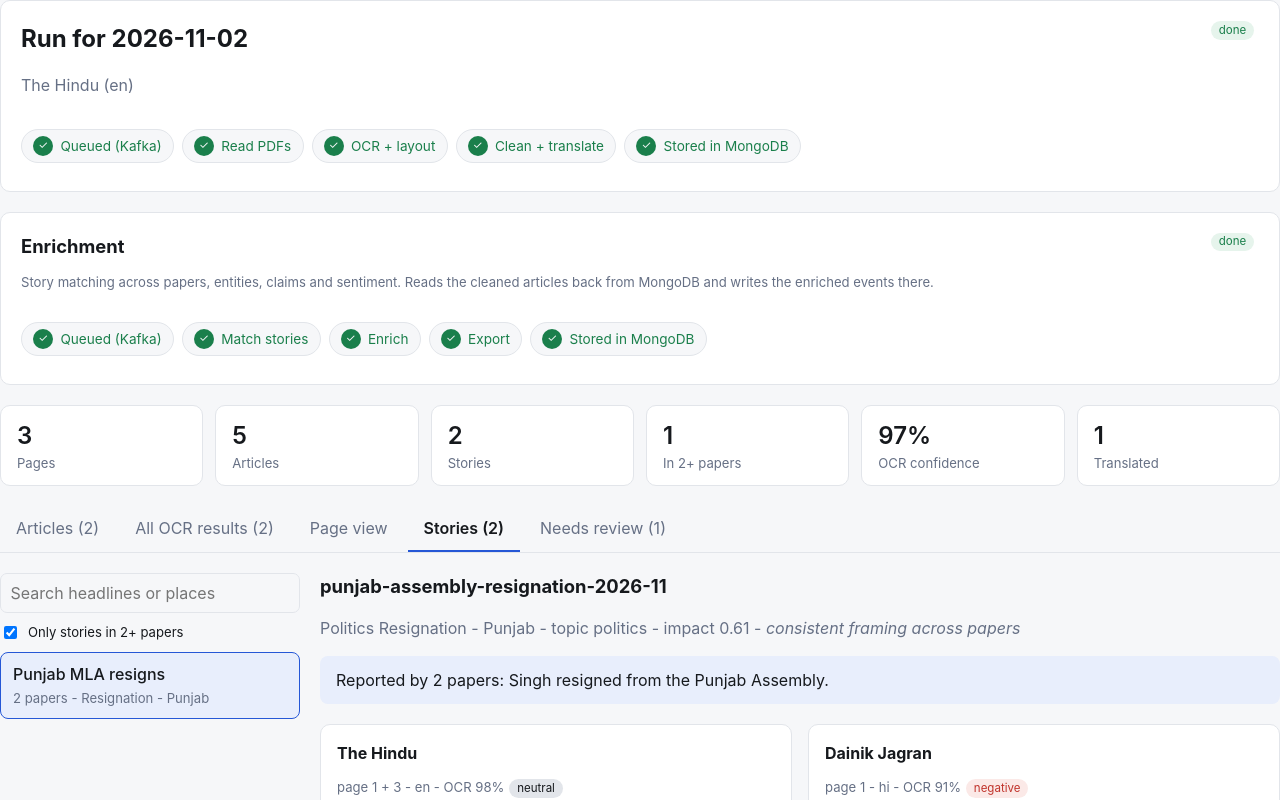
Test: RunPage › review tab lists flagged articles or an all-clear message
Click the tab "Needs review (1)". click: (603, 529)
box: [524,506,682,552]
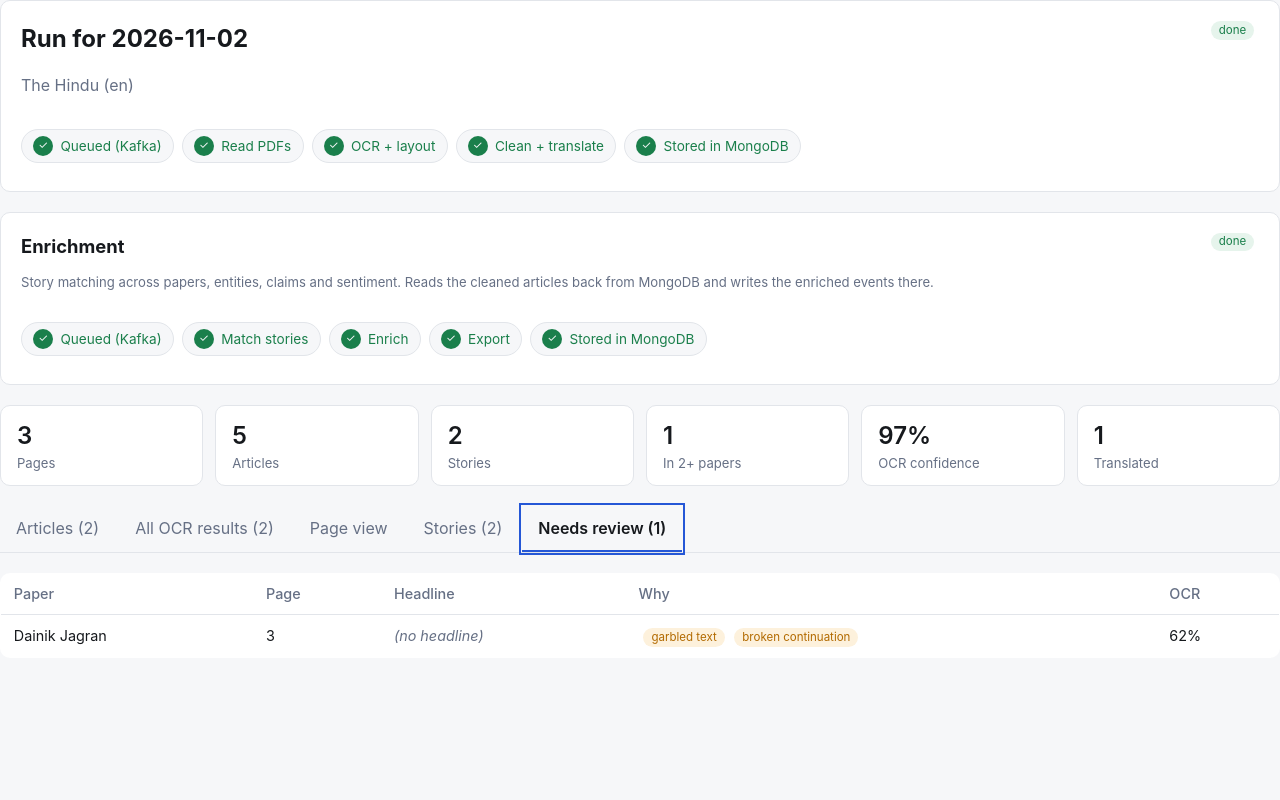
Now the text "garbled text" is shown, box [643,628,725,647]
Now the text "62%" is shown, box [1156,615,1279,657]
Now the text "(no headline)" is shown, box [394,627,484,644]
